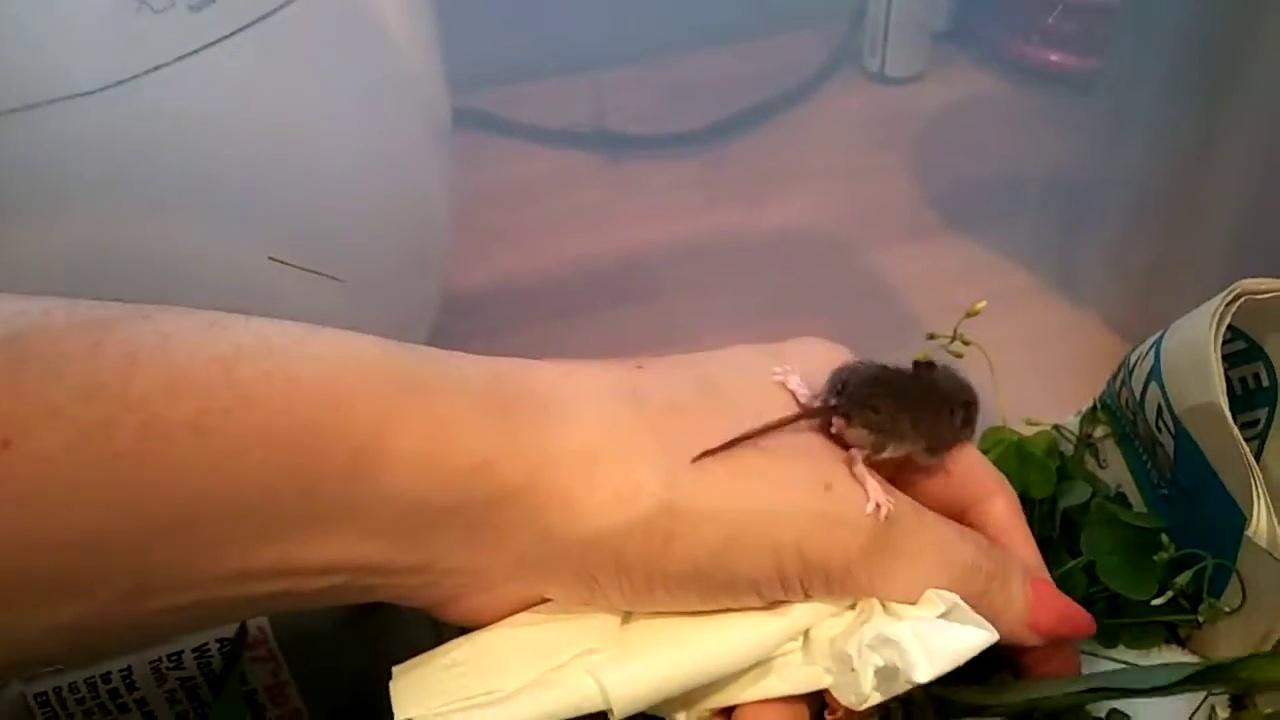mouse: (691, 355, 981, 522)
